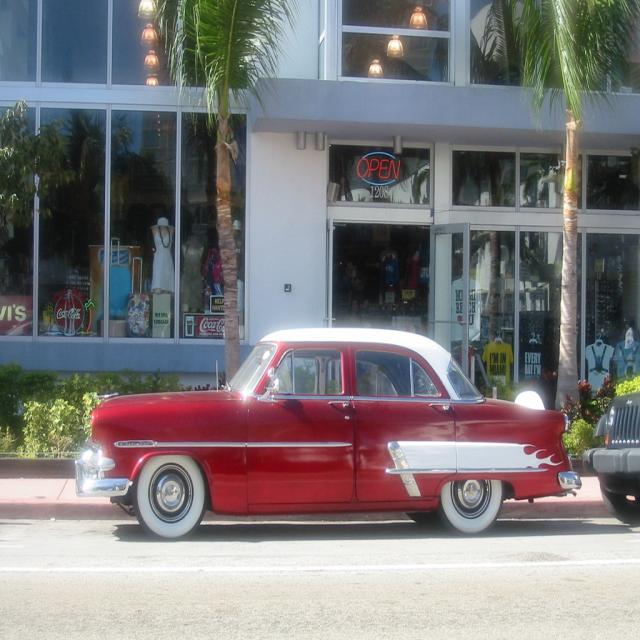car: (73, 326, 581, 540)
